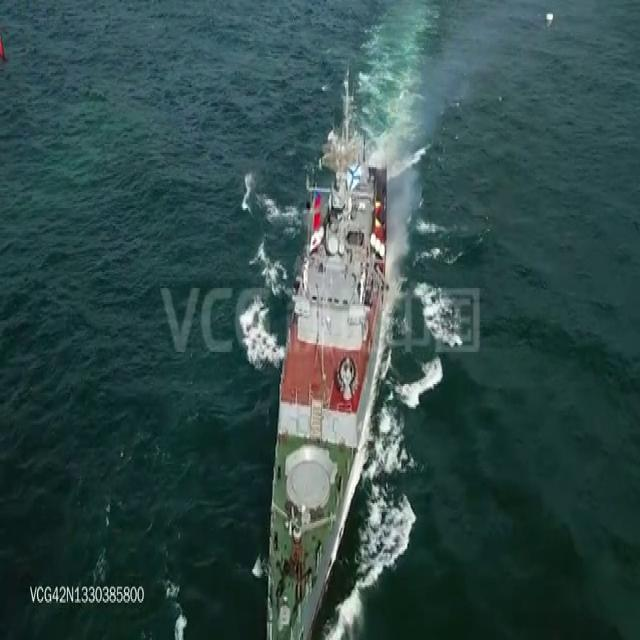navalvessels: (264, 78, 391, 640)
